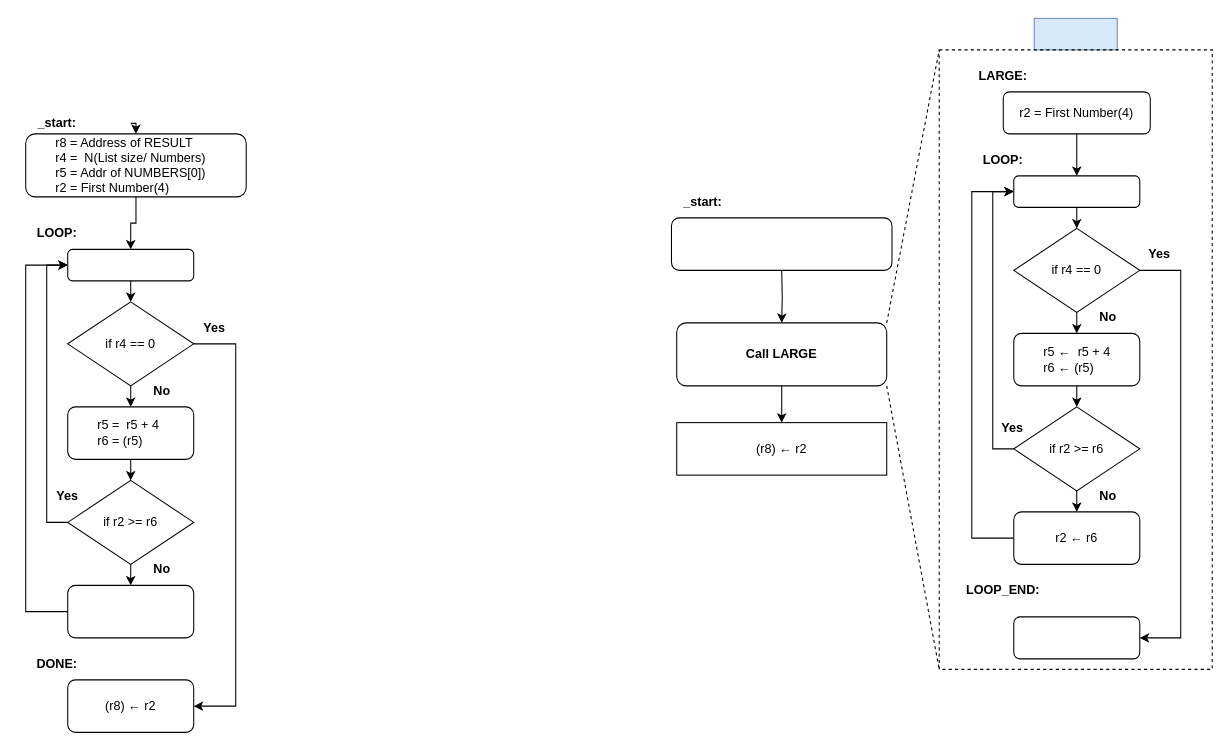
Some shapes in this 1231 by 751 pixel diagram are drawn without their labels. The centre of each missing label's shape, as x and y in pixels:
"r2 = r6" belongs at point 130,611.
"r4 = r4 - 1" belongs at point 130,264.
"r4 ← r4 - 1" belongs at point 1076,191.
"r8 = Address of RESULT r4 = N(List size/ Numbers) r5 = Addr of NUMBERS[0])" belongs at point 781,243.
"RETURN r2" belongs at point 1076,637.
"Subroutine" belongs at point 1075,33.
